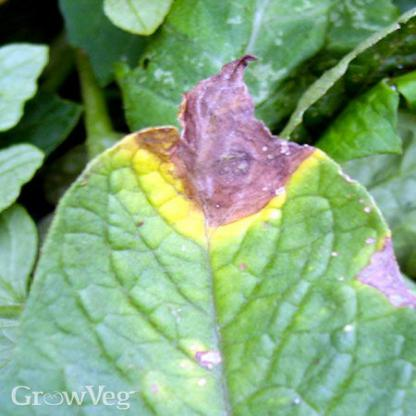tomato early blight leaf: (67, 43, 376, 394)
